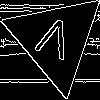V: (30, 15, 76, 70)
